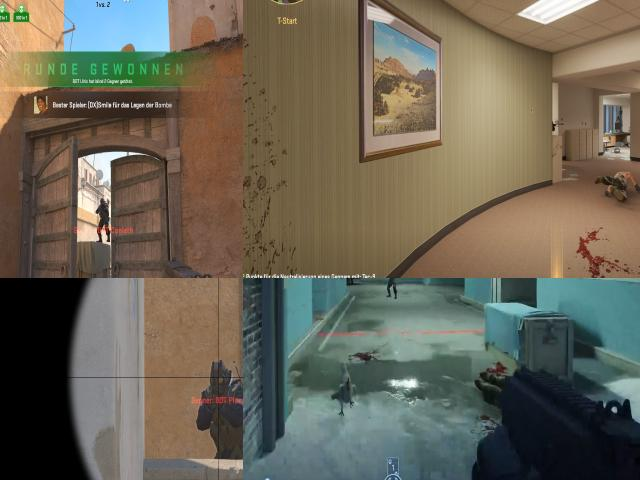CT: (204, 360, 243, 458), (99, 198, 109, 243), (386, 278, 397, 284)
CT-Head: (211, 362, 231, 390), (100, 199, 105, 205)
Dead: (594, 167, 640, 201)
